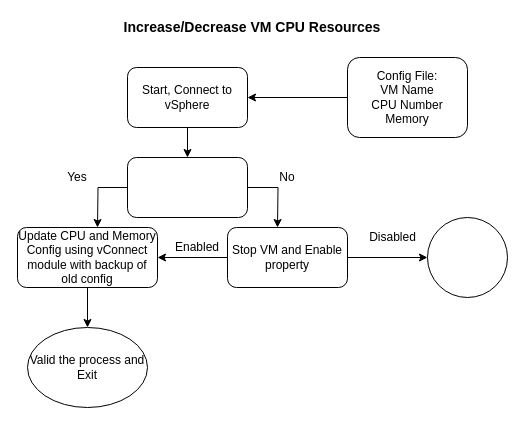
Some shapes in this 525 by 425 pixel diagram are drawn without their labels. Each missing label, with the centre of its shape:
Error & Exit: [467,257]
Hot-add Property Enabled: [187,187]
